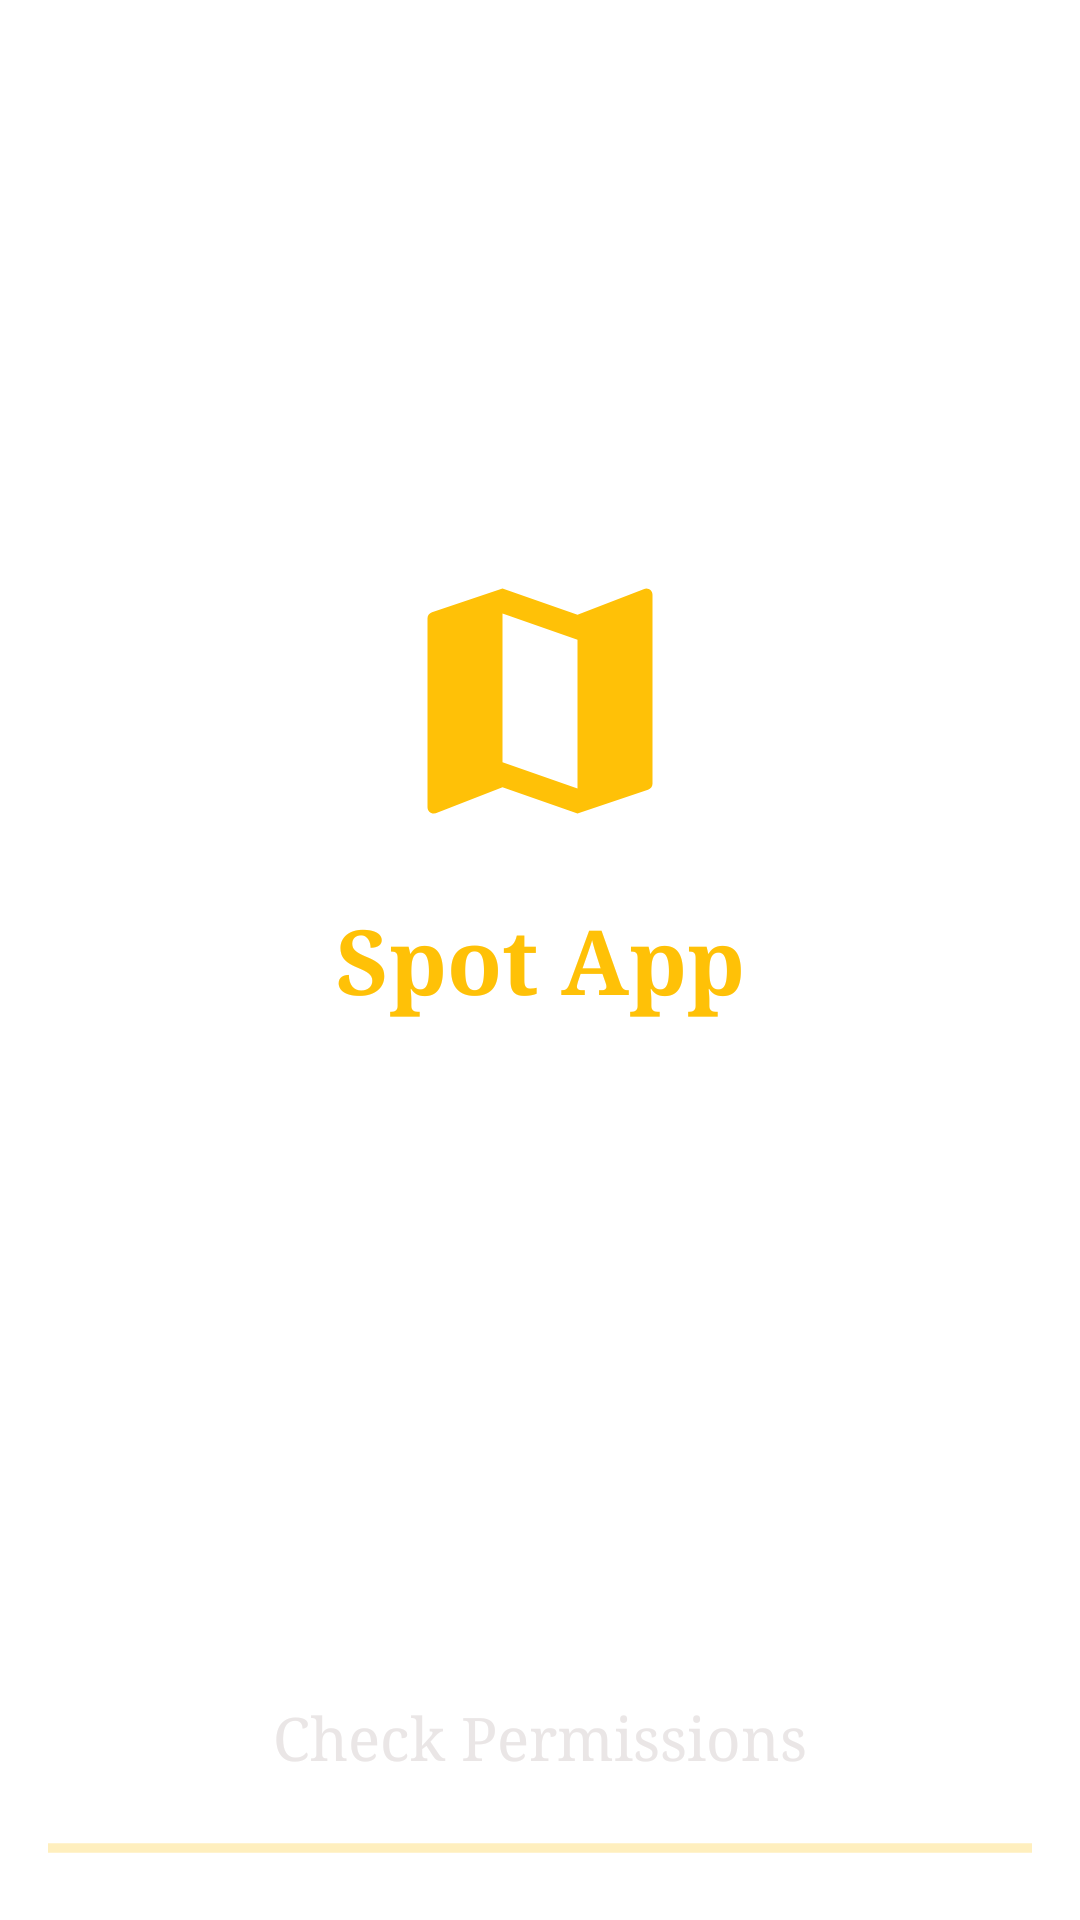

Icon bounding boxes for this 1080x1920 phone screenshot, format (x1, y1, x2, y2):
map: (427, 588, 653, 814)
